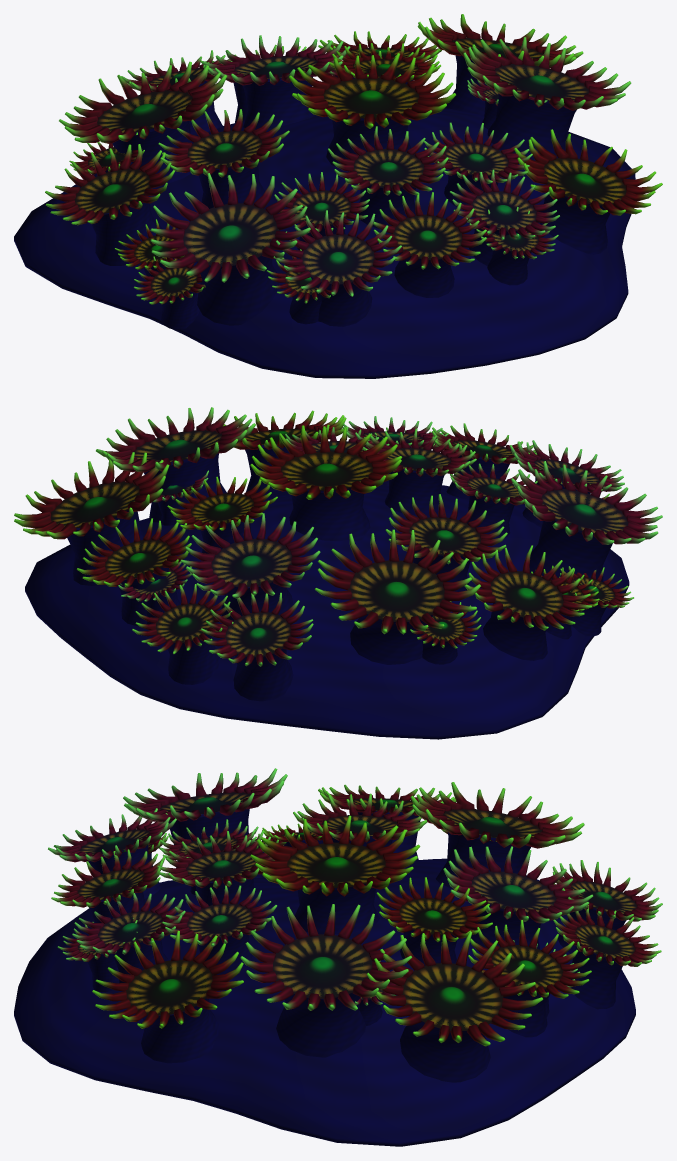
The model's file is reef-zoanthid-colonial-mat.glb.
3 renders of one model, top to bottom at view 1: azimuth 30°, elevation 25°; view 2: azimuth 150°, elevation 25°; view 3: azimuth 270°, elevation 25°, orthographic. The views are drawn at different scales.
Parts seen in each view (by area): view 1: Reef_Zoanthid_Colonial_Mat; view 2: Reef_Zoanthid_Colonial_Mat; view 3: Reef_Zoanthid_Colonial_Mat.
Part boxes in pixels (x1,y1,x2,y2): Reef_Zoanthid_Colonial_Mat: (14, 14, 662, 378); Reef_Zoanthid_Colonial_Mat: (14, 407, 662, 739); Reef_Zoanthid_Colonial_Mat: (14, 768, 662, 1146).
Size of the model in its own units: 0.1665 by 0.0452 by 0.1632.
Materials: 2 (2 with a texture image).
